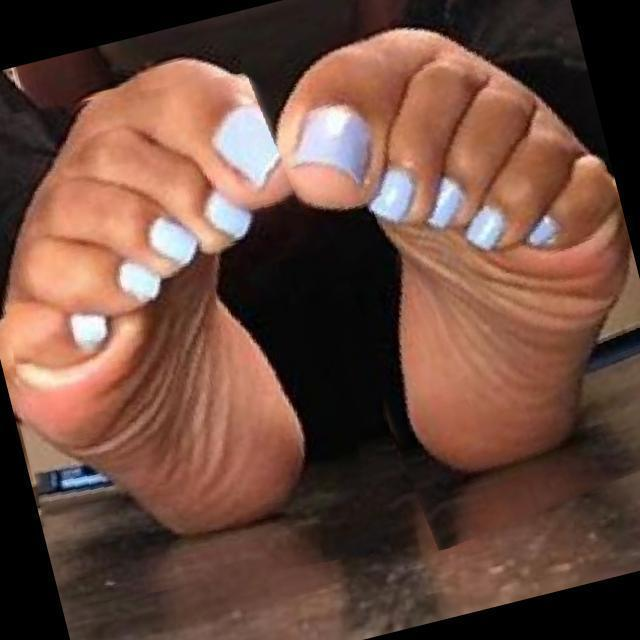Barefoots: (0, 63, 333, 564), (283, 39, 633, 514)
